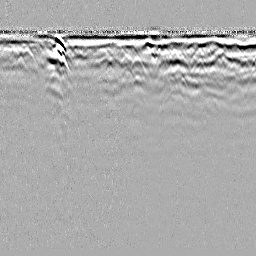cavity: (120, 51, 131, 63)
